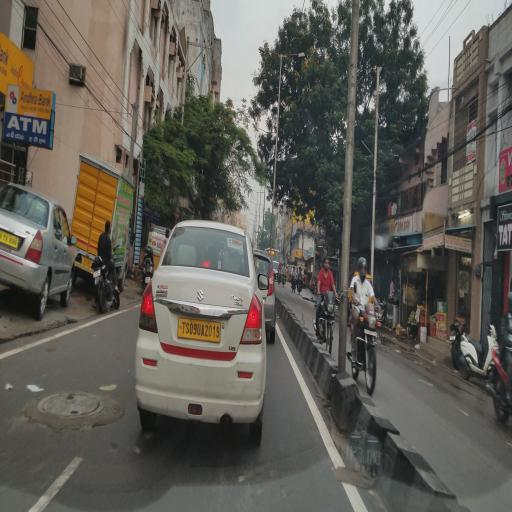street_light_0: (281, 39, 311, 75), (254, 38, 282, 66)
